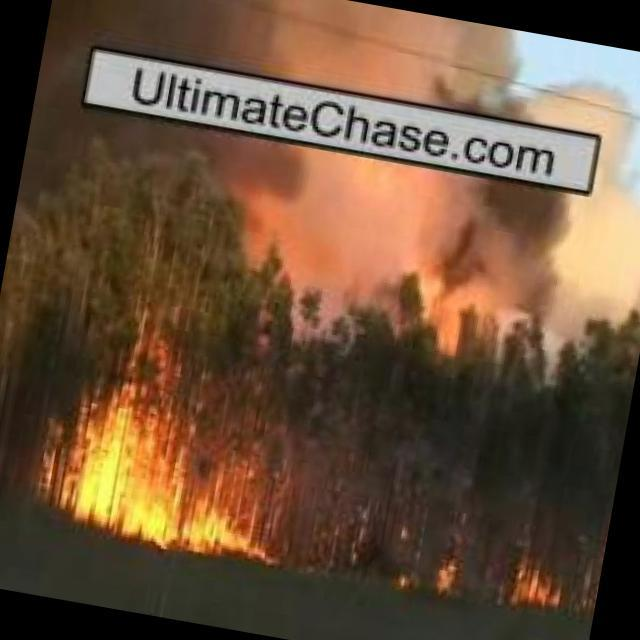Fire: (57, 388, 289, 561), (506, 544, 581, 611), (437, 552, 467, 595)
